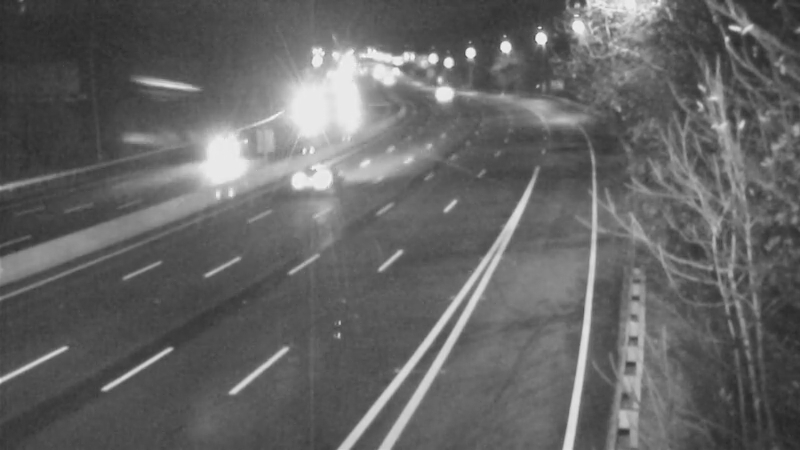vehicle: (273, 141, 353, 221), (180, 112, 260, 192), (417, 67, 467, 117), (284, 89, 334, 139)
